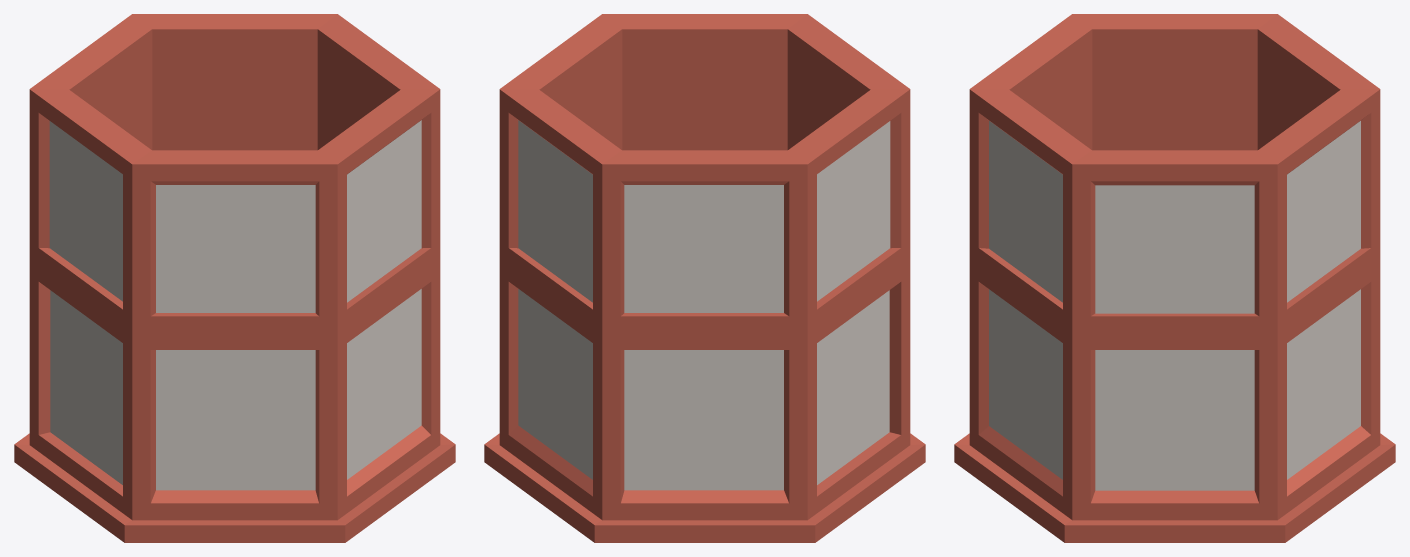
Rendered from vent.fbx.
3 renders of one model, left to right at view 1: azimuth 30°, elevation 25°; view 2: azimuth 150°, elevation 25°; view 3: azimuth 270°, elevation 25°, orthographic.
Parts seen in each view (by area): view 1: Cylinder; view 2: Cylinder; view 3: Cylinder.
Part boxes in pixels (x1,y1,x2,y2): Cylinder: (14, 14, 455, 542); Cylinder: (484, 14, 925, 542); Cylinder: (954, 14, 1395, 542).
Bounding box in the file's own units: 231 × 249 × 267.
